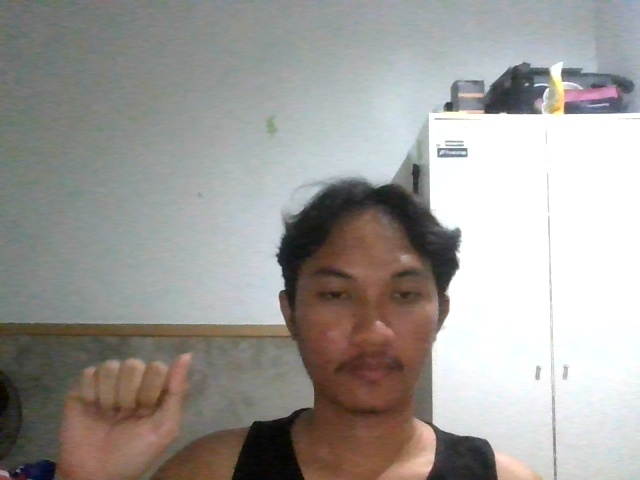a: (53, 334, 194, 480)
